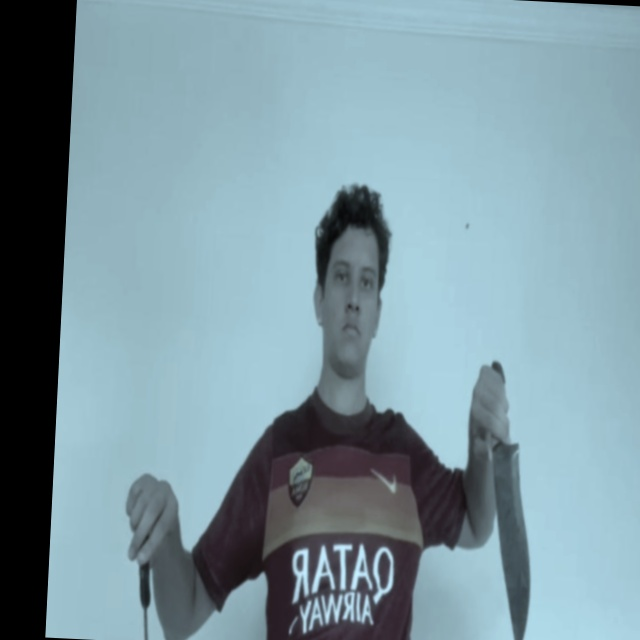Sharp-Object: (481, 441, 538, 640)
